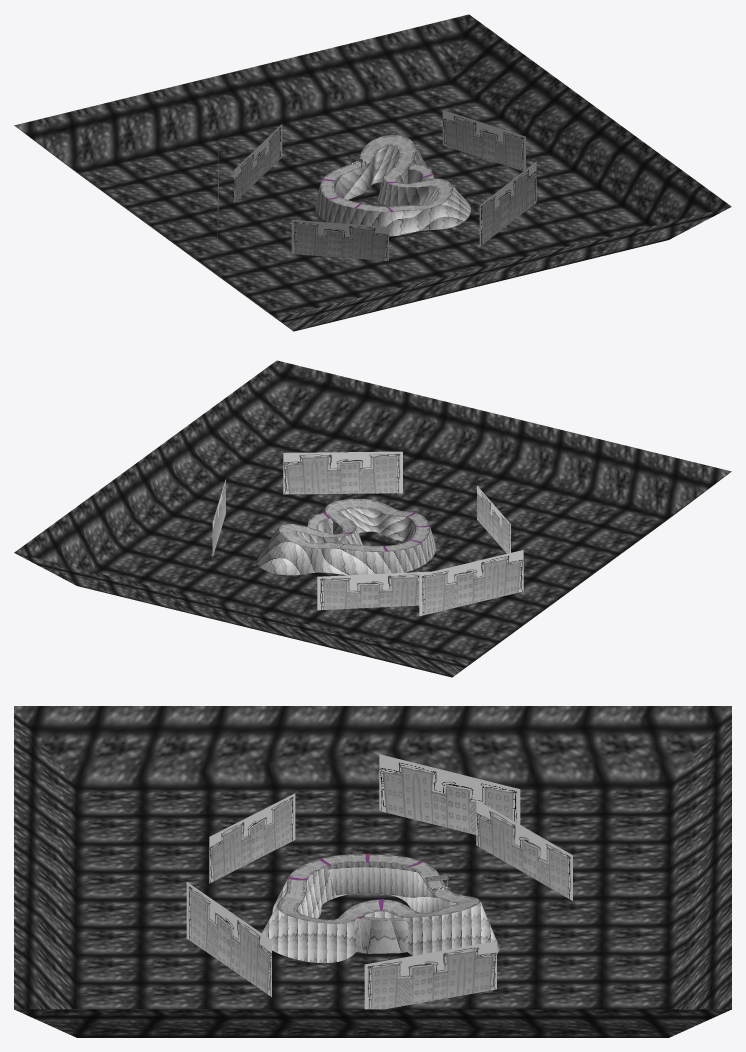
3 renders of one model, top to bottom at view 1: azimuth 30°, elevation 25°; view 2: azimuth 150°, elevation 25°; view 3: azimuth 270°, elevation 25°, orthographic. The views are drawn at different scales.
Parts seen in each view (by area): view 1: OOB.001, Background.001, Wall.006, Road.019; view 2: OOB.001, Background.001, Wall.006, Road.019; view 3: OOB.001, Background.001, Wall.006, Road.019.
Part boxes in pixels (x1=…): OOB.001: x1=14, y1=14, x2=731, y2=331; Background.001: x1=217, y1=110, x2=536, y2=260; Wall.006: x1=315, y1=145, x2=470, y2=236; Road.019: x1=320, y1=134, x2=452, y2=211; OOB.001: x1=14, y1=360, x2=731, y2=677; Background.001: x1=212, y1=451, x2=523, y2=616; Wall.006: x1=257, y1=508, x2=435, y2=575; Road.019: x1=278, y1=498, x2=429, y2=551; OOB.001: x1=14, y1=706, x2=731, y2=1037; Background.001: x1=186, y1=754, x2=572, y2=1009; Wall.006: x1=262, y1=862, x2=499, y2=963; Road.019: x1=277, y1=854, x2=480, y2=923.
Bounding box in the file's own units: 134498 × 20047 × 134498.
Materials: 8 (8 with a texture image).
